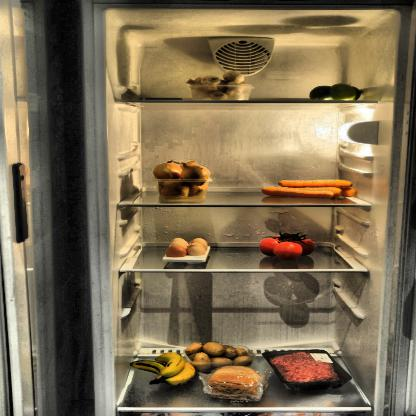banana: (134, 352, 197, 386)
carrot: (260, 178, 360, 200)
chocolate: (138, 96, 186, 100)
eggs: (167, 238, 210, 257)
ground_beef: (265, 351, 351, 384)
lime: (309, 82, 362, 103)
mushrooms: (183, 70, 251, 102)
onion: (151, 159, 209, 201)
potato: (183, 340, 254, 366)
tomato: (258, 230, 321, 258)
